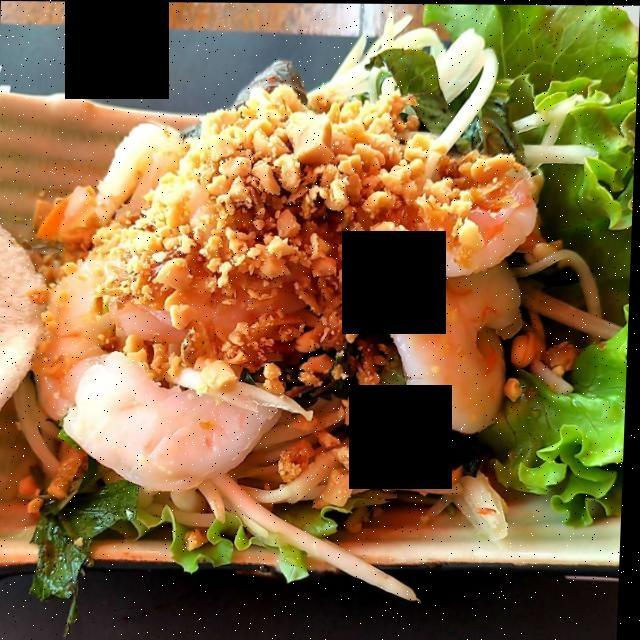carrot: (205, 428, 483, 603)
nut: (40, 89, 524, 494)
salad: (24, 9, 629, 580)
shrimp: (21, 126, 538, 488)
